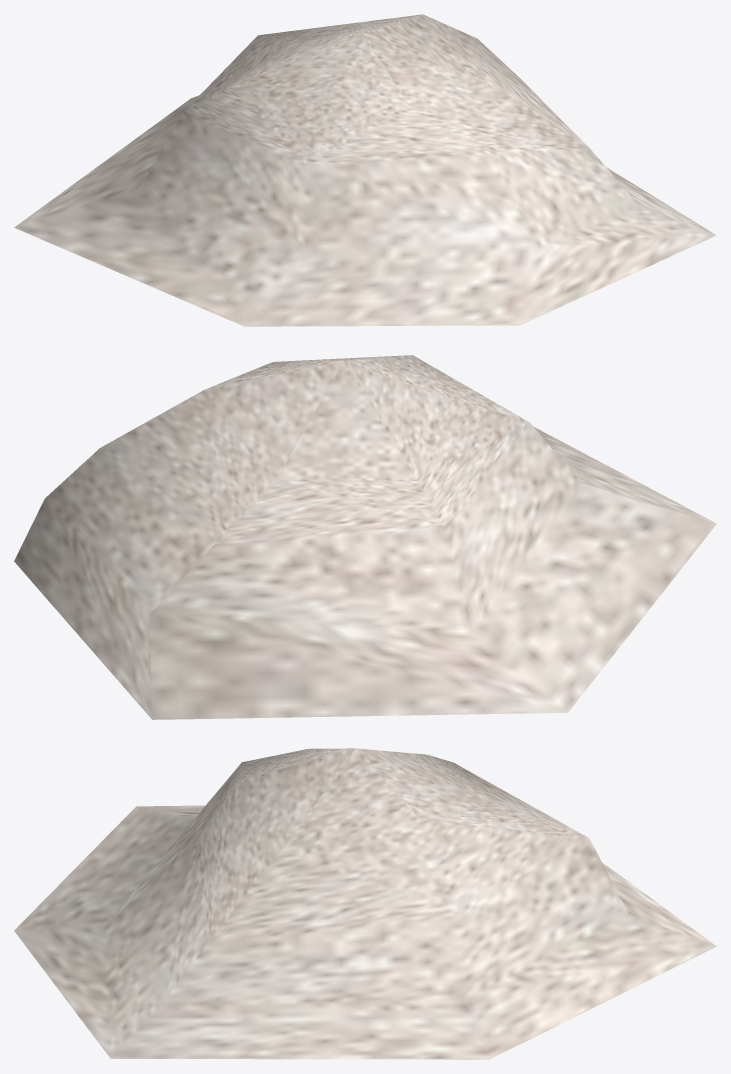
Rendered from pir_m_prp_hol_sandpile01_winter09.fbx.
The picture shows the model from 3 angles, top to bottom: view 1: azimuth 30°, elevation 25°; view 2: azimuth 150°, elevation 25°; view 3: azimuth 270°, elevation 25°; orthographic projection. The views are drawn at different scales.
Visible parts, largest first — view 1: lod_high; view 2: lod_high; view 3: lod_high.
Boxes of the visible parts, x1=… form: lod_high: x1=14, y1=14, x2=716, y2=326; lod_high: x1=14, y1=355, x2=716, y2=719; lod_high: x1=14, y1=748, x2=716, y2=1059.
Bounding box in the file's own units: 134 × 47.07 × 150.
1 material, 1 textured.
